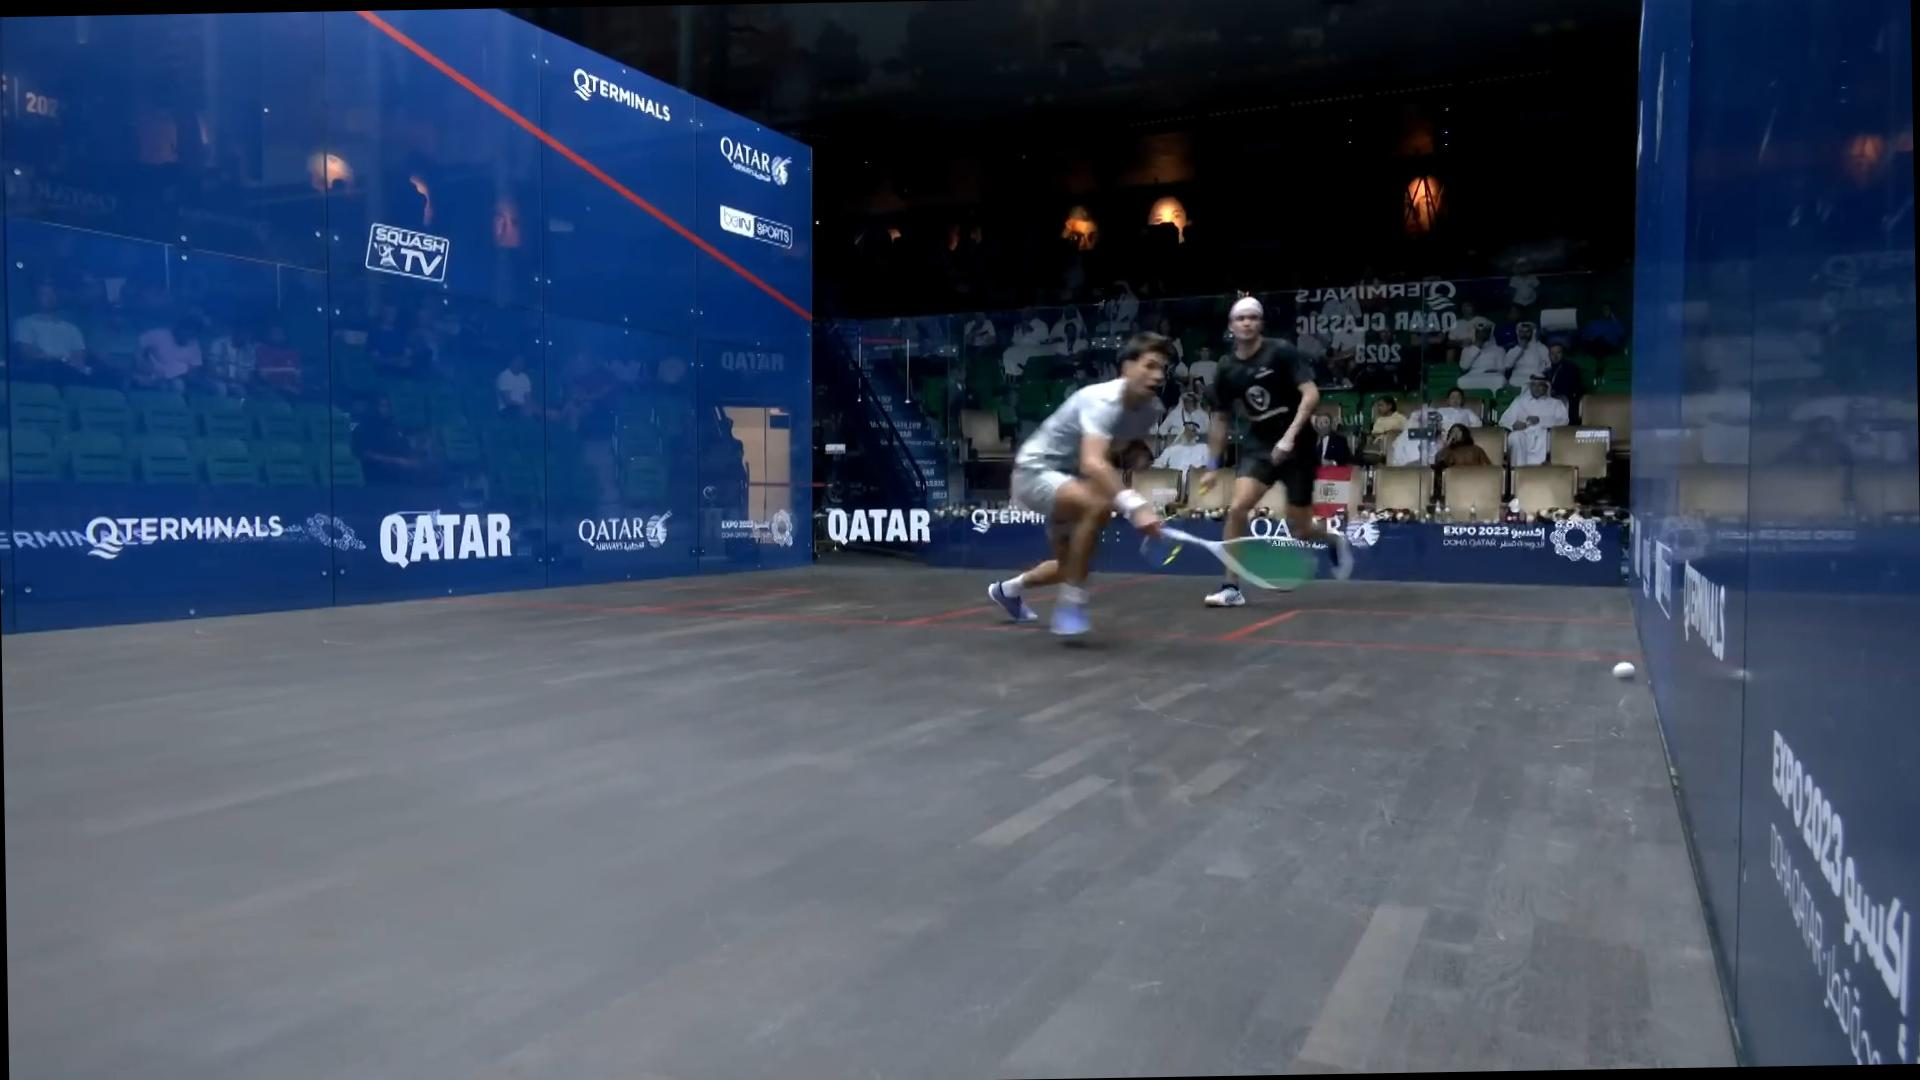Racket: (1164, 516, 1323, 599)
